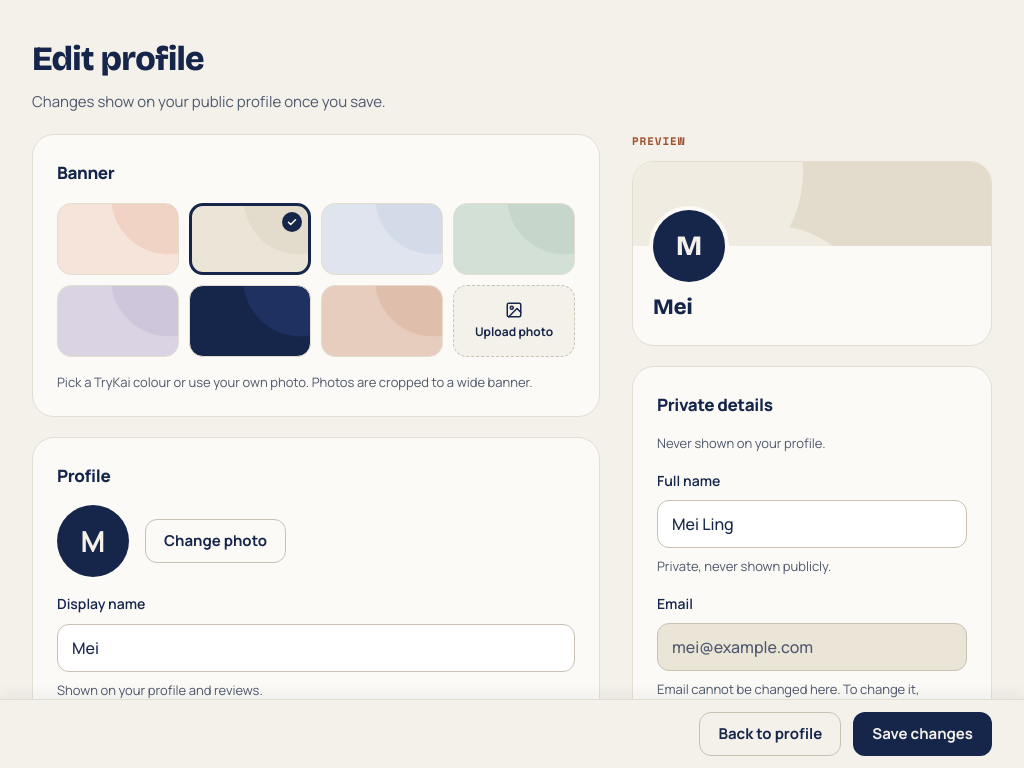
Test: Settings profile form › saves the writable name columns
The image size is (1024, 768).
Expected: the heading "Edit profile" is shown, [32,38,204,79]
Replace the text in the field labelled "Full name" with "  Mei Ling Tan  " at (812, 524), box [657,500,967,548]
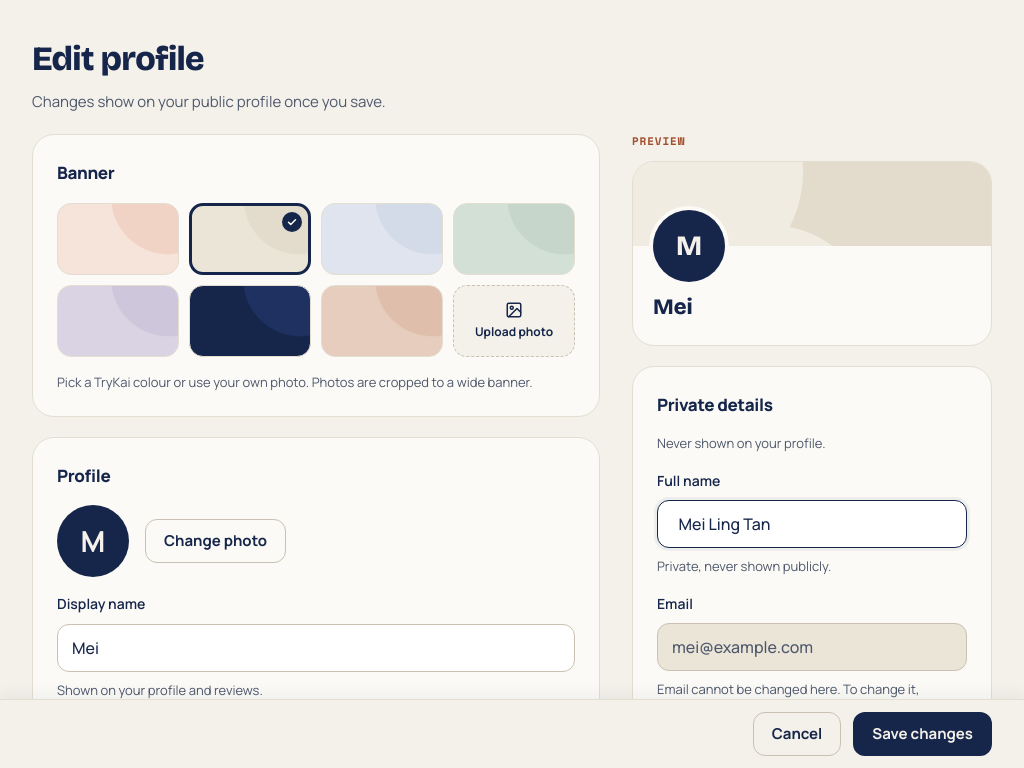
Replace the text in the field labelled "Display name" with "  Latte Queen  " at (316, 648), box [57,624,575,672]
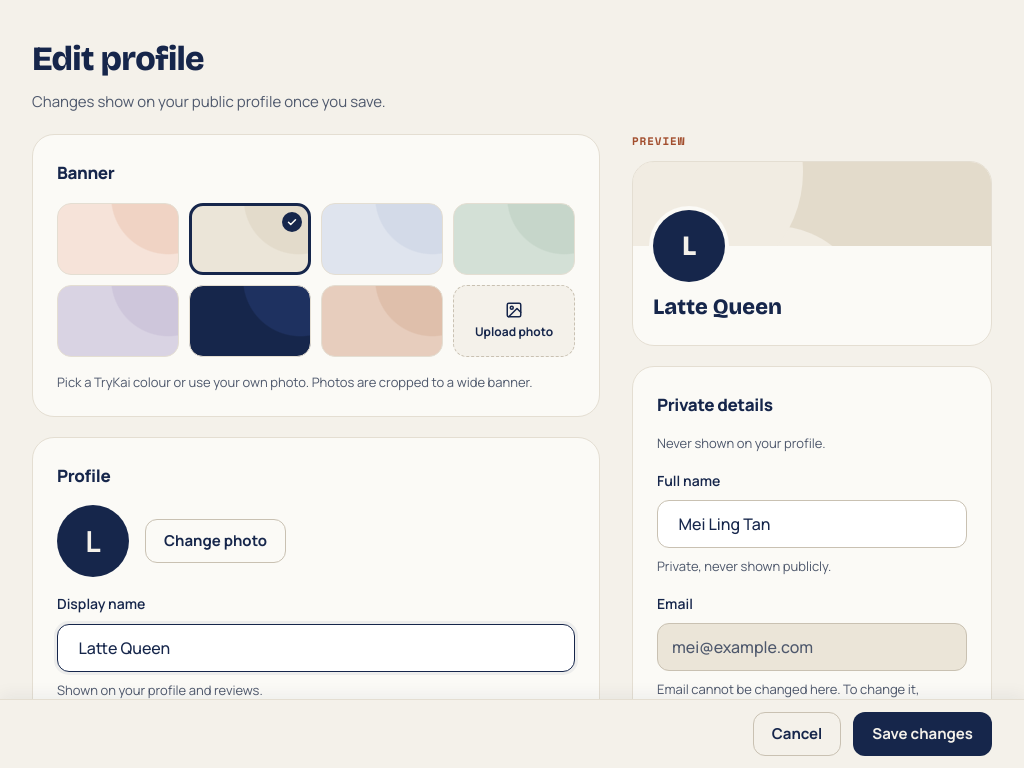
Click the button "Save changes" at (923, 734), box [853,712,992,756]
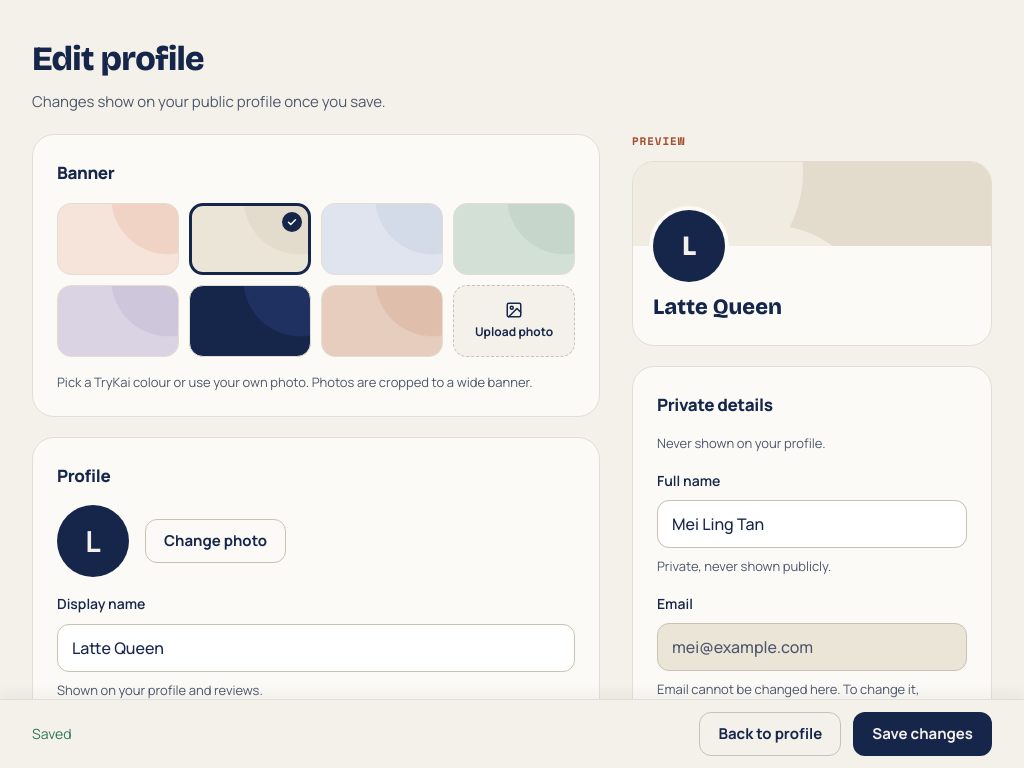
Now the message reads "Saved", box [32,724,72,743]
